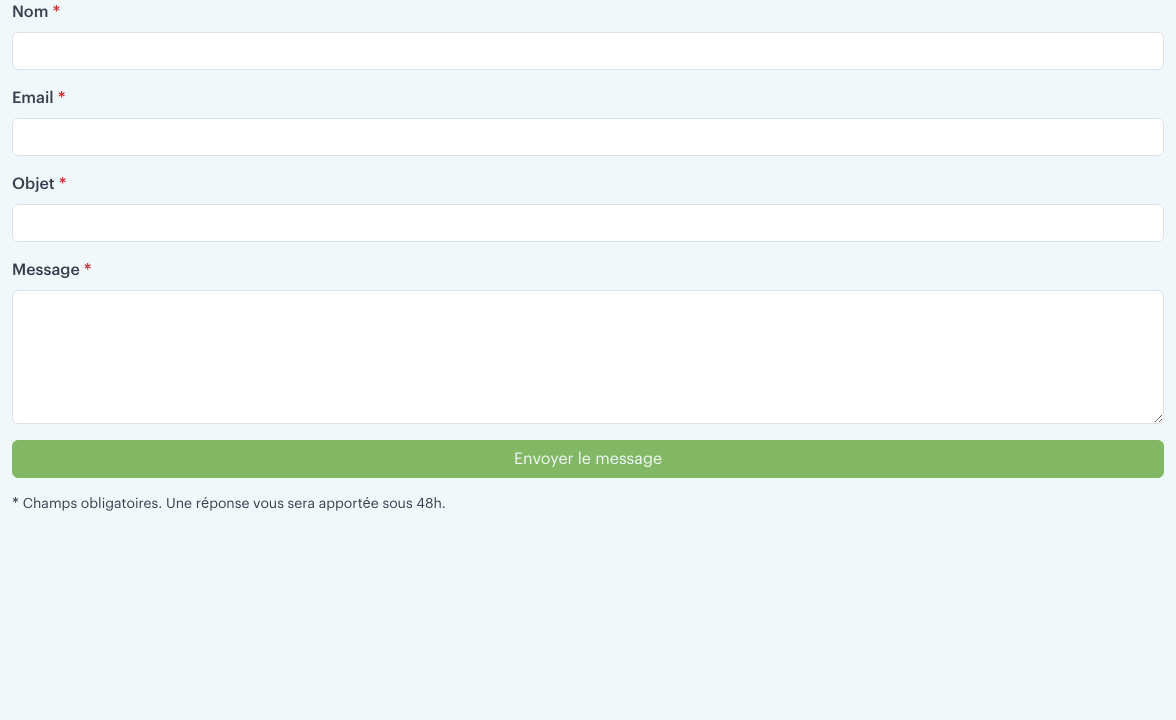
ContactForm › affiche des erreurs si le formulaire est vide
Click the button "Envoyer le message" at (588, 459), box [12,440,1164,478]
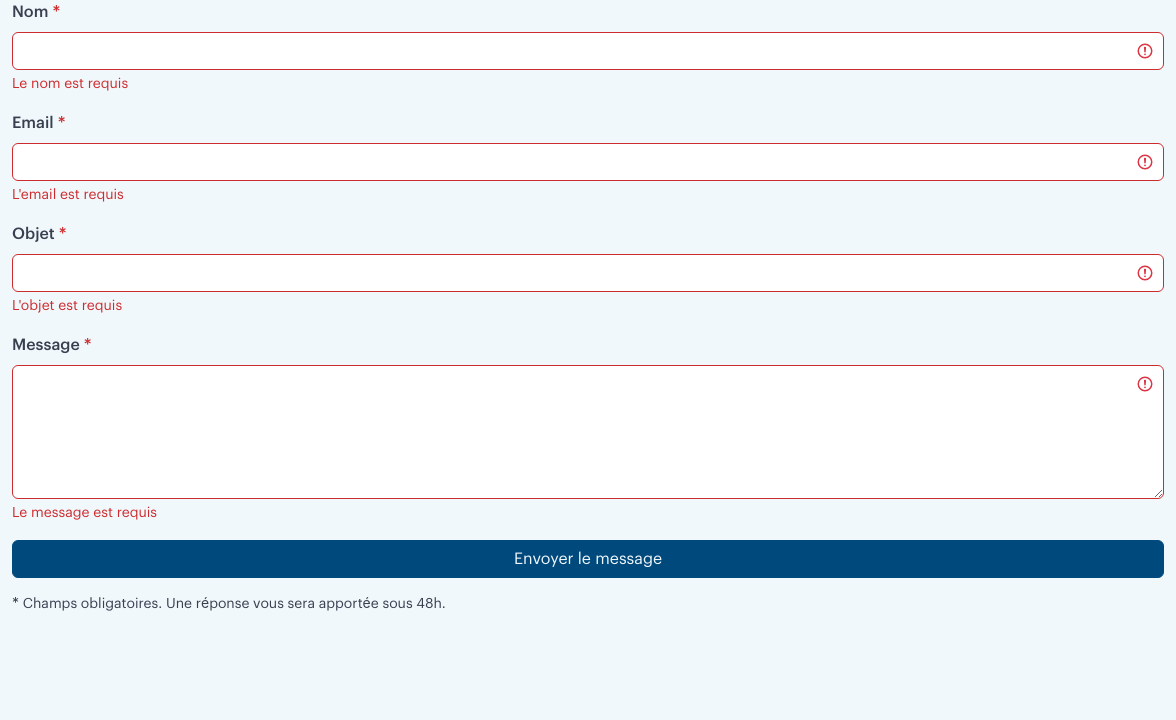
Result: the text "Le nom est requis" is shown at [12,77,128,91]
Result: the text "L'email est requis" is shown at [12,188,124,202]
Result: the text "L'objet est requis" is shown at [12,299,122,313]
